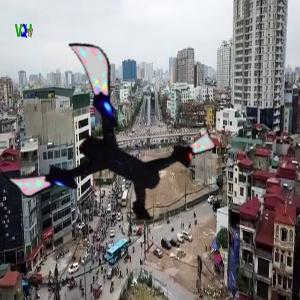drone: (8, 60, 195, 247)
